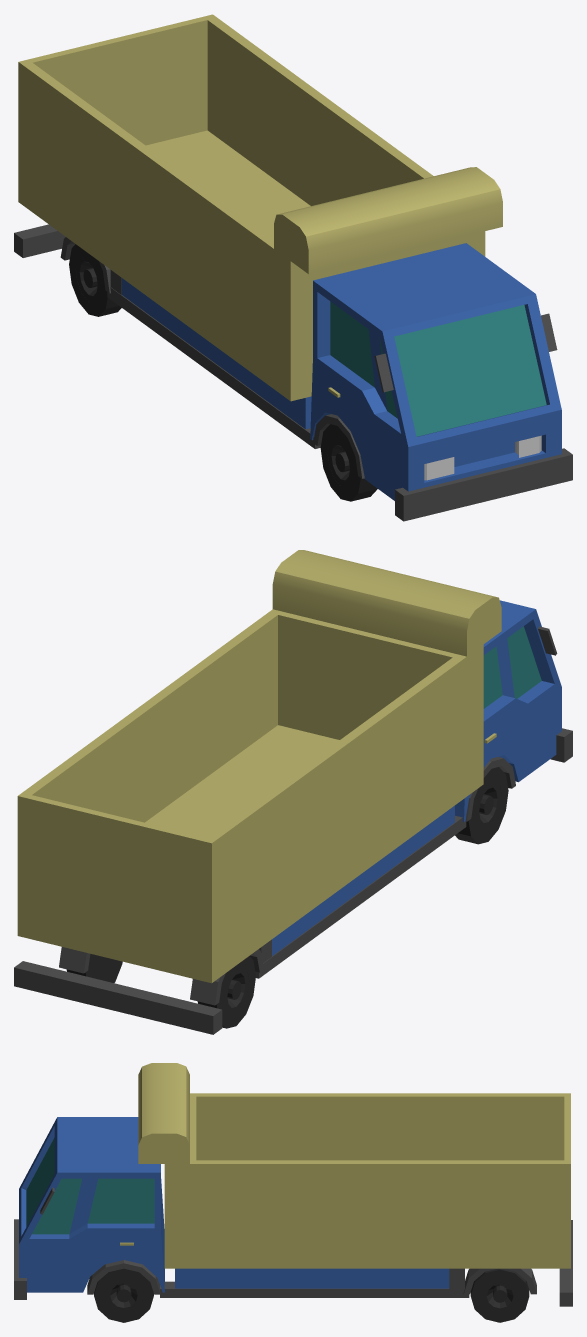
File: Truck_2.fbx
The picture shows the model from 3 angles, top to bottom: view 1: azimuth 30°, elevation 25°; view 2: azimuth 150°, elevation 25°; view 3: azimuth 270°, elevation 25°; orthographic projection. The views are drawn at different scales.
Parts seen in each view (by area): view 1: pCube65; view 2: pCube65; view 3: pCube65.
Part boxes in pixels (<box>): pCube65: <box>14,14,572,521</box>; pCube65: <box>14,550,572,1034</box>; pCube65: <box>14,1063,572,1322</box>.
Bounding box in the file's own units: 1.3 × 1.64 × 4.23.
